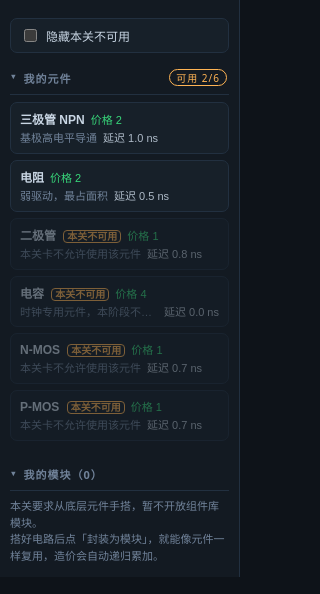
Test: 元件库「隐藏本关不可用」 › 勾选后隐藏锁定元件，可用元件保留
The image size is (320, 594).
Check: the text "三极管 NPN" is shown, box [20,110,85,127]
Check: the text "二极管" is shown, box [20,229,56,243]
Click the checkbox labelled "隐藏本关不可用".
click(30, 36)  # box [24,29,37,42]
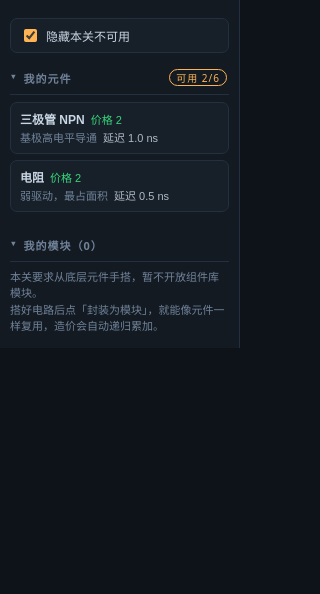
Check: the text "三极管 NPN" is shown, box [20,110,85,127]
Check: the button "二极管" is gone
Check: the button "N-MOS" is gone
